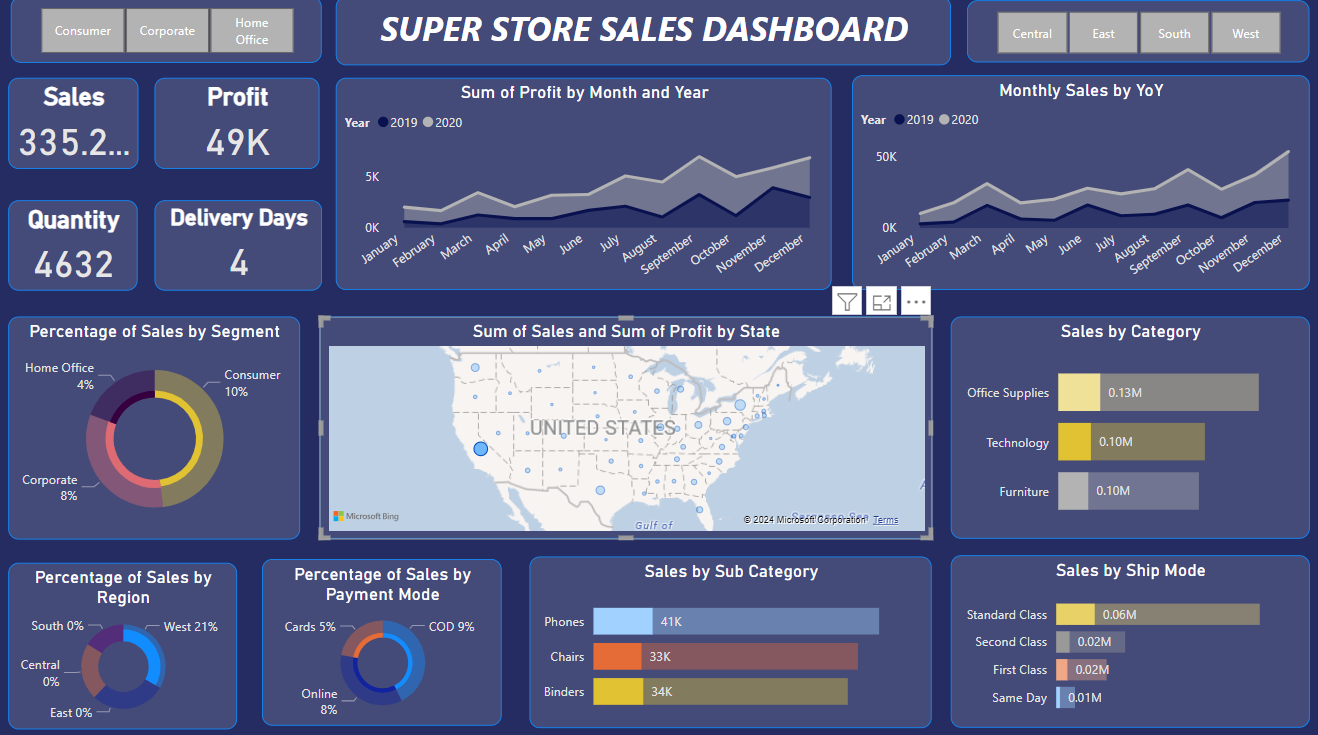

The page's visual inventory and layout, read from the dashboard file:
{"tool":"powerbi","page":{"name":"Page 1","canvas":[1280,720],"ordinal":0},"visuals":[{"type":"clusteredBarChart","title":"Sales by Category","fields":{"Category":["SuperStore_Sales_Dataset.Category"],"Y":["Sum(SuperStore_Sales_Dataset.Sales)"]},"box":[920.2,311.2,346.1,214.7],"z":0},{"type":"clusteredBarChart","title":"Sales by Sub Category","fields":{"Category":["SuperStore_Sales_Dataset.Sub-Category"],"Y":["Sum(SuperStore_Sales_Dataset.Sales)"]},"box":[513.8,542.7,388.3,165.2],"z":1000},{"type":"clusteredBarChart","title":"Sales by Ship Mode","fields":{"Category":["SuperStore_Sales_Dataset.Ship Mode"],"Y":["Sum(SuperStore_Sales_Dataset.Sales)"]},"box":[920,541.2,346.2,166.2],"z":2000},{"type":"stackedAreaChart","title":"Monthly Sales by YoY","fields":{"Y":["Sum(SuperStore_Sales_Dataset.Sales)"],"Category":["SuperStore_Sales_Dataset.Order Date.Variation.Date Hierarchy.Month","SuperStore_Sales_Dataset.Order Date.Variation.Date Hierarchy.Day"],"Series":["SuperStore_Sales_Dataset.Order Date.Variation.Date Hierarchy.Year"]},"box":[825,78.8,441.2,207.5],"z":3000},{"type":"stackedAreaChart","fields":{"Category":["SuperStore_Sales_Dataset.Order Date.Variation.Date Hierarchy.Month","SuperStore_Sales_Dataset.Order Date.Variation.Date Hierarchy.Day"],"Series":["SuperStore_Sales_Dataset.Order Date.Variation.Date Hierarchy.Year"],"Y":["Sum(SuperStore_Sales_Dataset.Profit)"]},"box":[326.2,81.2,478.8,205],"z":4000},{"type":"map","fields":{"Category":["SuperStore_Sales_Dataset.State"],"Size":["Sum(SuperStore_Sales_Dataset.Sales)"]},"box":[311.2,311.2,591,214.7],"z":5000},{"type":"donutChart","title":"Percentage of Sales by Segment","fields":{"Category":["SuperStore_Sales_Dataset.Segment"],"Y":["Sum(SuperStore_Sales_Dataset.Sales)"]},"box":[11.2,311.2,281.2,215],"z":6000},{"type":"donutChart","title":"Percentage of Sales by Payment Mode","fields":{"Category":["SuperStore_Sales_Dataset.Payment Mode"],"Y":["Sum(SuperStore_Sales_Dataset.Sales)"]},"box":[255.7,545.1,231.6,160.4],"z":7000},{"type":"slicer","fields":{"Values":["SuperStore_Sales_Dataset.Region"]},"box":[936.2,6.2,330,60],"z":8000},{"type":"textbox","box":[326.2,2.5,593.8,66.2],"z":9000},{"type":"card","title":"Sales","fields":{"Values":["Sum(SuperStore_Sales_Dataset.Sales)"]},"box":[11.2,81.2,125,87.5],"z":10000},{"type":"card","title":"Quantity","fields":{"Values":["Sum(SuperStore_Sales_Dataset.Quantity)"]},"box":[11.2,198.8,125,87.5],"z":11000},{"type":"card","title":"Profit","fields":{"Values":["Sum(SuperStore_Sales_Dataset.Profit)"]},"box":[161.2,81.2,152.5,87.5],"z":12000},{"type":"card","title":"Delivery Days","fields":{"Values":["Avg(SuperStore_Sales_Dataset.AvgDelievery)"]},"box":[162.5,198.8,151.2,87.5],"z":13000},{"type":"donutChart","title":"Percentage of Sales by Region","fields":{"Category":["SuperStore_Sales_Dataset.Region"],"Y":["Sum(SuperStore_Sales_Dataset.Sales)"]},"box":[10.9,548.7,220.7,160.4],"z":14000},{"type":"slicer","fields":{"Values":["SuperStore_Sales_Dataset.Segment"]},"box":[11.2,2.5,300,63.8],"z":15000}]}

Visuals, with their boxes in screenshot pixels (x1, y1, x2, y2), scaled from the page's 1280x720 canvas onto the 1318x735 screenshot:
"Sales by Category" clusteredBarChart: [948,318,1304,537]
"Sales by Sub Category" clusteredBarChart: [529,554,929,723]
"Sales by Ship Mode" clusteredBarChart: [947,552,1304,722]
"Monthly Sales by YoY" stackedAreaChart: [849,80,1304,292]
stackedAreaChart - SuperStore_Sales_Dataset.Order Date.Variation.Date Hierarchy.Month x SuperStore_Sales_Dataset.Order Date.Variation.Date Hierarchy.Day: [336,83,829,292]
map - SuperStore_Sales_Dataset.State x Sum(SuperStore_Sales_Dataset.Sales): [320,318,929,537]
"Percentage of Sales by Segment" donutChart: [12,318,301,537]
"Percentage of Sales by Payment Mode" donutChart: [263,556,502,720]
slicer - SuperStore_Sales_Dataset.Region: [964,6,1304,68]
textbox: [336,3,947,70]
"Sales" card: [12,83,140,172]
"Quantity" card: [12,203,140,292]
"Profit" card: [166,83,323,172]
"Delivery Days" card: [167,203,323,292]
"Percentage of Sales by Region" donutChart: [11,560,238,724]
slicer - SuperStore_Sales_Dataset.Segment: [12,3,320,68]
